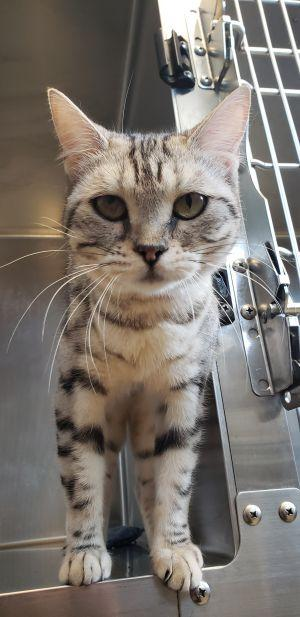bengal: (32, 67, 261, 314)
